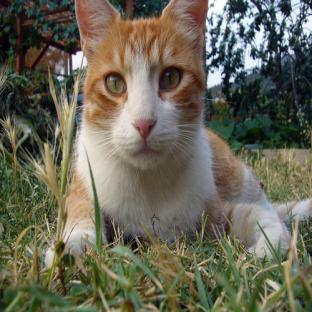Animal: (65, 0, 288, 255)
